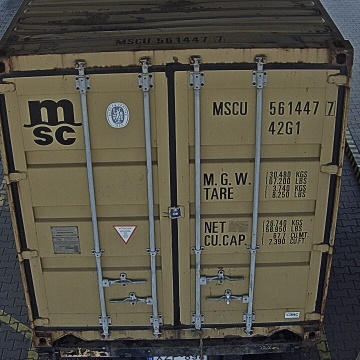serial_id: (213, 100, 335, 115)
